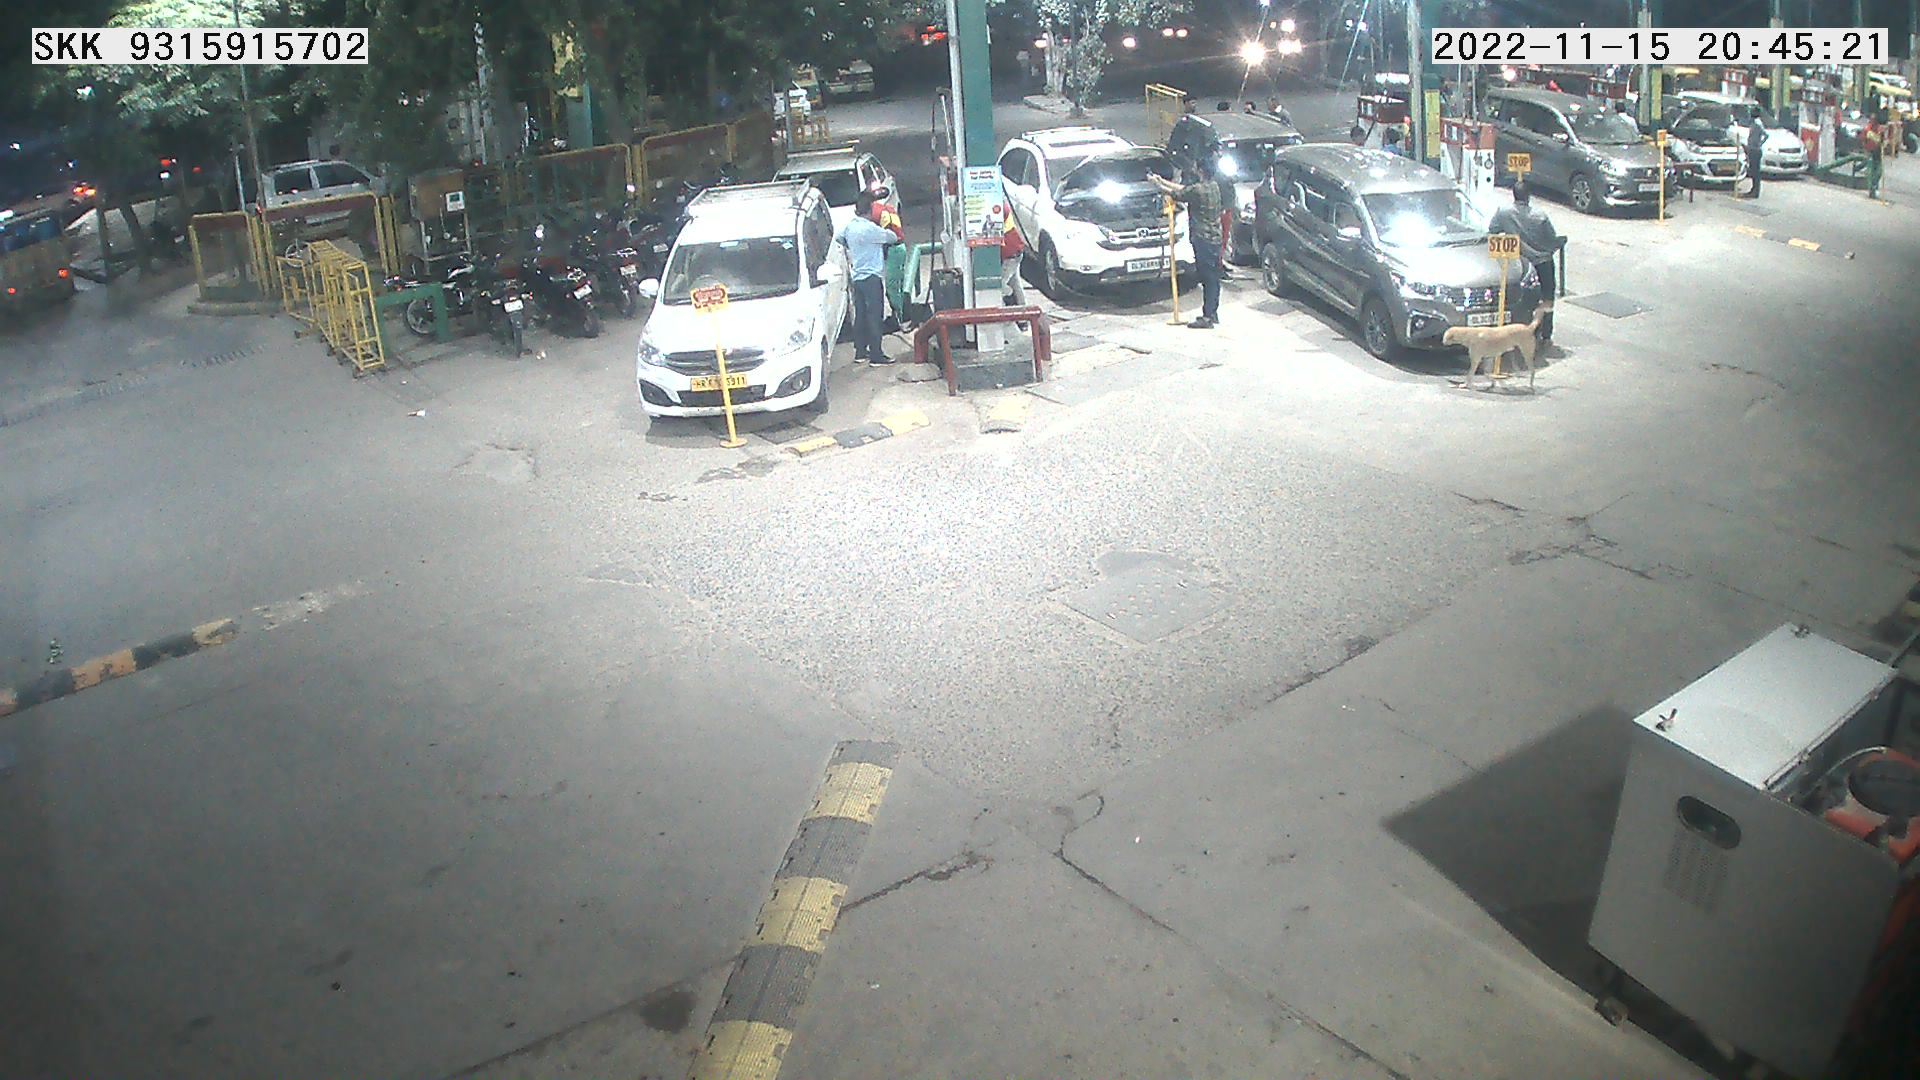Auto: (1844, 71, 1917, 158), (1789, 71, 1865, 153), (1720, 66, 1796, 133), (774, 51, 829, 121)
Bike: (506, 206, 609, 342), (551, 203, 655, 332), (364, 240, 471, 347), (458, 236, 537, 368), (607, 177, 684, 278), (256, 181, 324, 274), (137, 182, 196, 286), (632, 156, 694, 224), (665, 152, 705, 194), (694, 154, 757, 179)
Car: (1250, 133, 1549, 375), (629, 179, 860, 431), (984, 116, 1195, 295), (1462, 78, 1681, 215), (748, 140, 918, 289), (1154, 87, 1313, 231), (1607, 80, 1756, 194), (1654, 84, 1821, 185), (237, 145, 396, 249), (1337, 61, 1429, 185), (744, 57, 829, 133), (816, 44, 895, 113)
HMV: (0, 173, 92, 344)
Others: (848, 173, 927, 344), (978, 177, 1051, 335), (1855, 98, 1894, 206)
Others Other: (1466, 228, 1530, 402), (696, 291, 758, 465), (1151, 190, 1195, 336), (1639, 117, 1676, 239), (1501, 144, 1545, 194), (1883, 104, 1904, 179)
